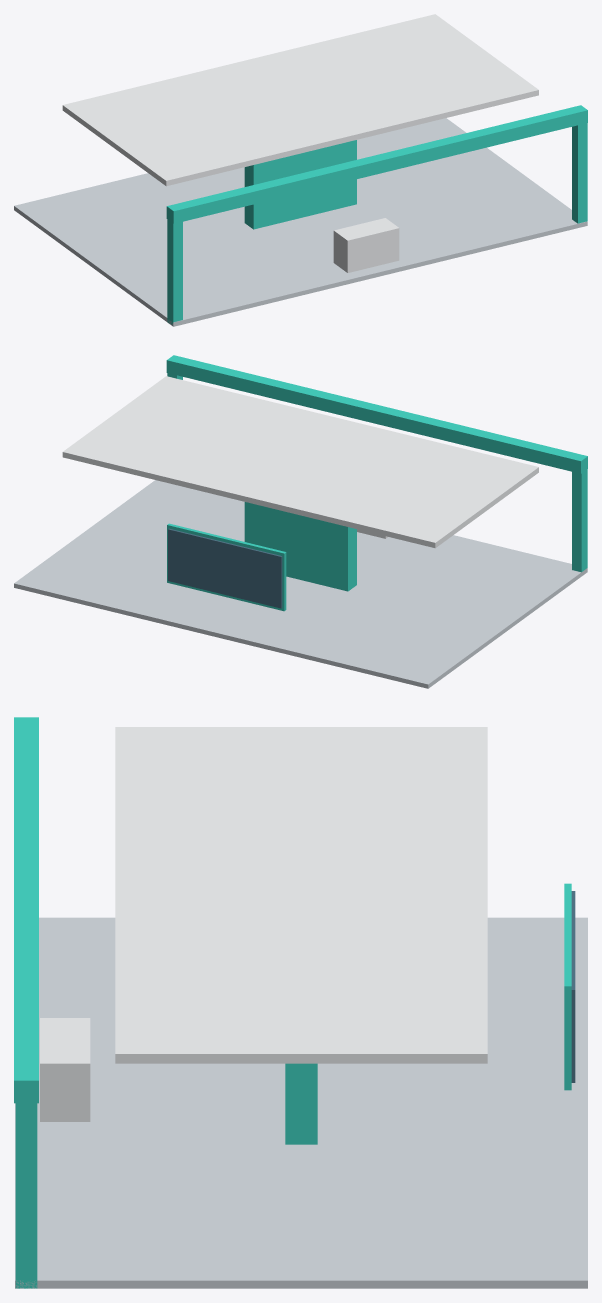
The picture shows the model from 3 angles, top to bottom: view 1: azimuth 30°, elevation 25°; view 2: azimuth 150°, elevation 25°; view 3: azimuth 270°, elevation 25°; orthographic projection. The views are drawn at different scales.
Visible parts, largest first — view 1: Exhibition Booth Concept; view 2: Exhibition Booth Concept; view 3: Exhibition Booth Concept.
Boxes of the visible parts, left/top/right/bottom form: Exhibition Booth Concept: left=14, top=14, right=587, bottom=326; Exhibition Booth Concept: left=14, top=355, right=587, bottom=688; Exhibition Booth Concept: left=14, top=717, right=587, bottom=1288.
Bounding box in the file's own units: 12 × 3.34 × 8.01.
